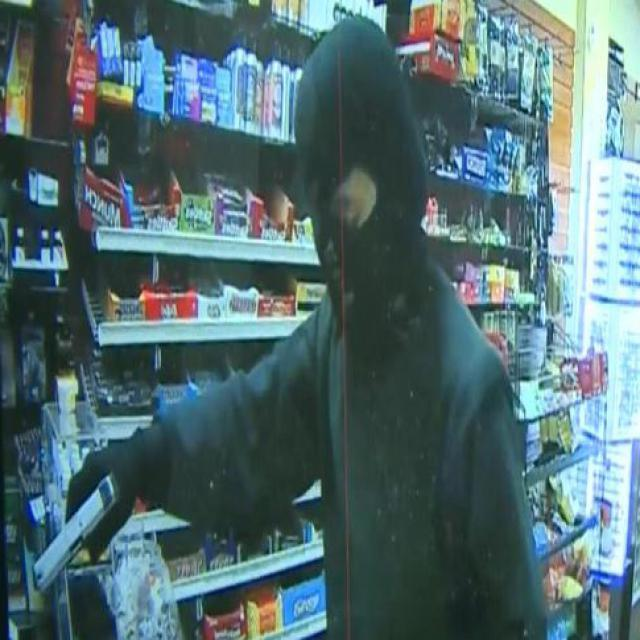weapon: (29, 474, 121, 596)
